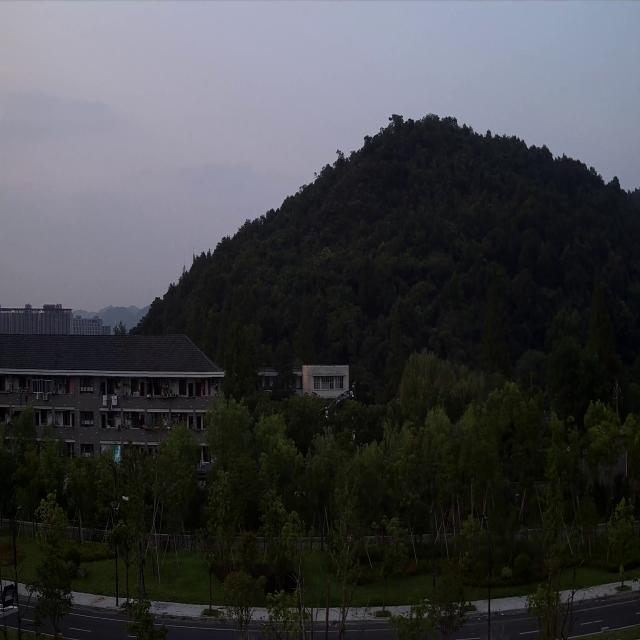UAV: (320, 382, 359, 418)
